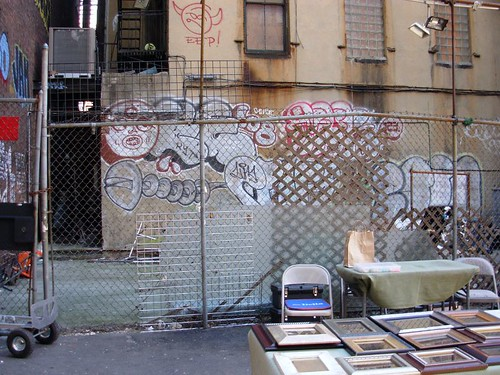chair: (278, 262, 335, 325), (452, 257, 497, 306)
graffiti: (100, 90, 275, 210), (276, 97, 399, 163), (386, 147, 482, 227), (1, 41, 55, 115), (170, 2, 224, 53)
window: (421, 1, 477, 70), (341, 1, 396, 64), (239, 1, 291, 60)
